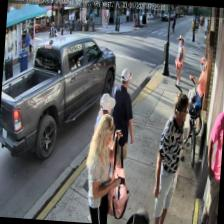person: (150, 90, 189, 224), (80, 113, 124, 224), (103, 66, 138, 201), (85, 91, 116, 224), (186, 54, 207, 114), (173, 34, 186, 86)
